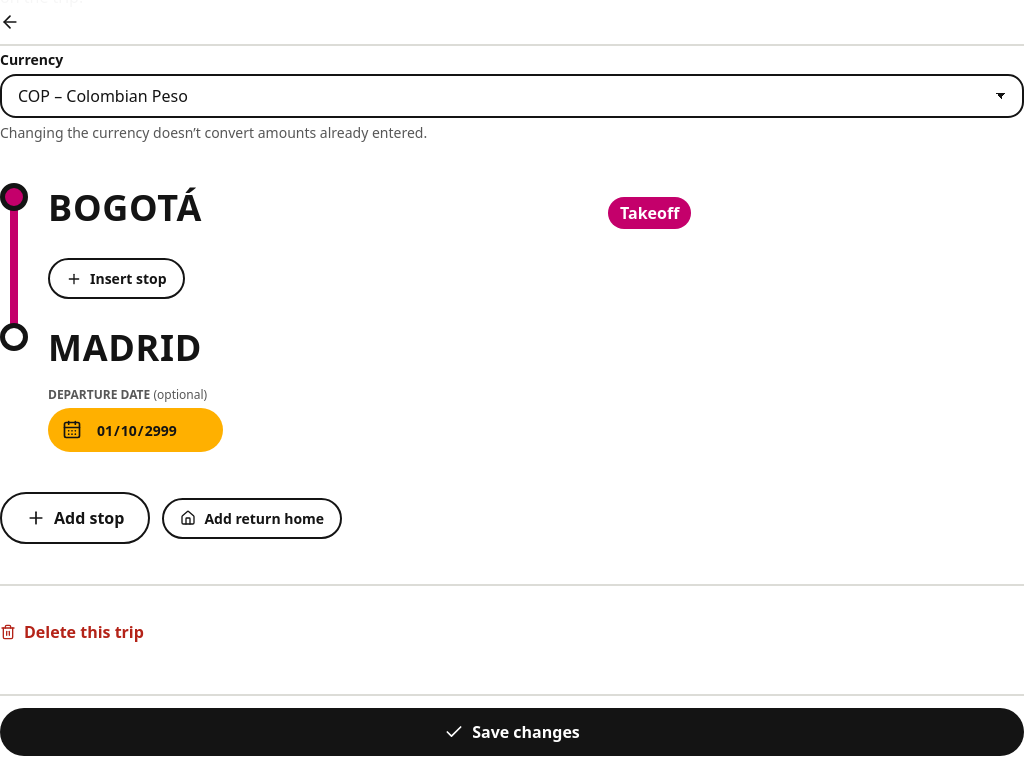
Scenario: TripForm in edit mode › names the trip in the delete dialog
(page scrolled)
Click the heading "Delete this trip": (72, 632) top-left (0, 621), bottom-right (144, 643)
(page scrolled)
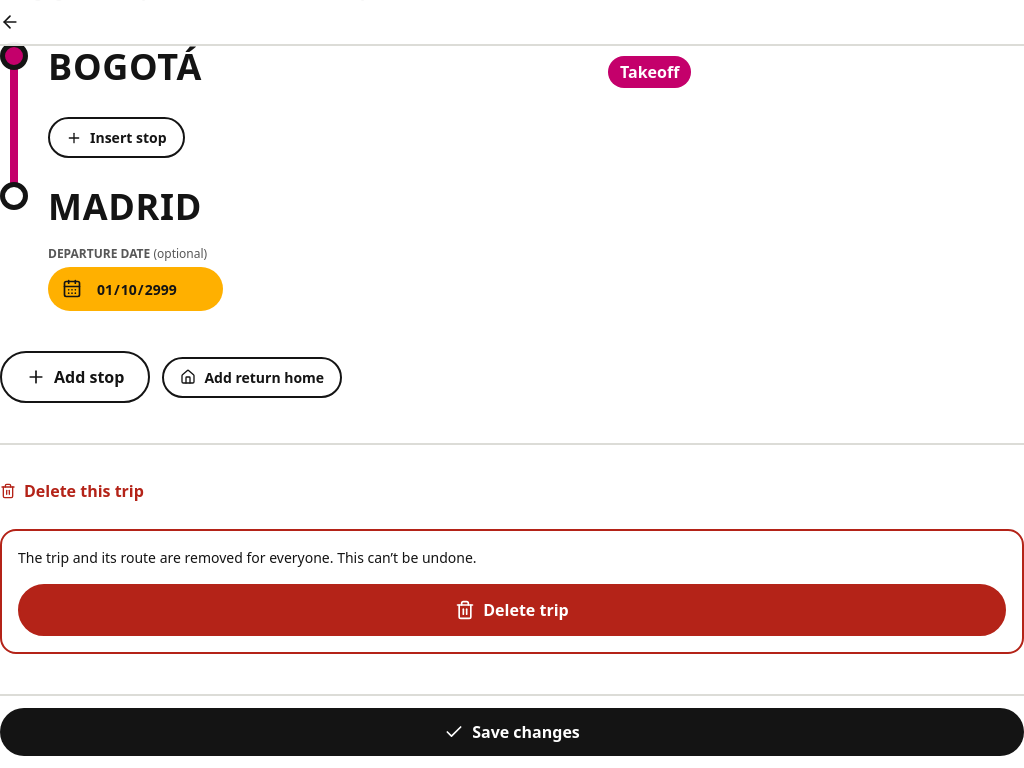
Click the button "Delete trip": (512, 610) top-left (18, 584), bottom-right (1006, 636)
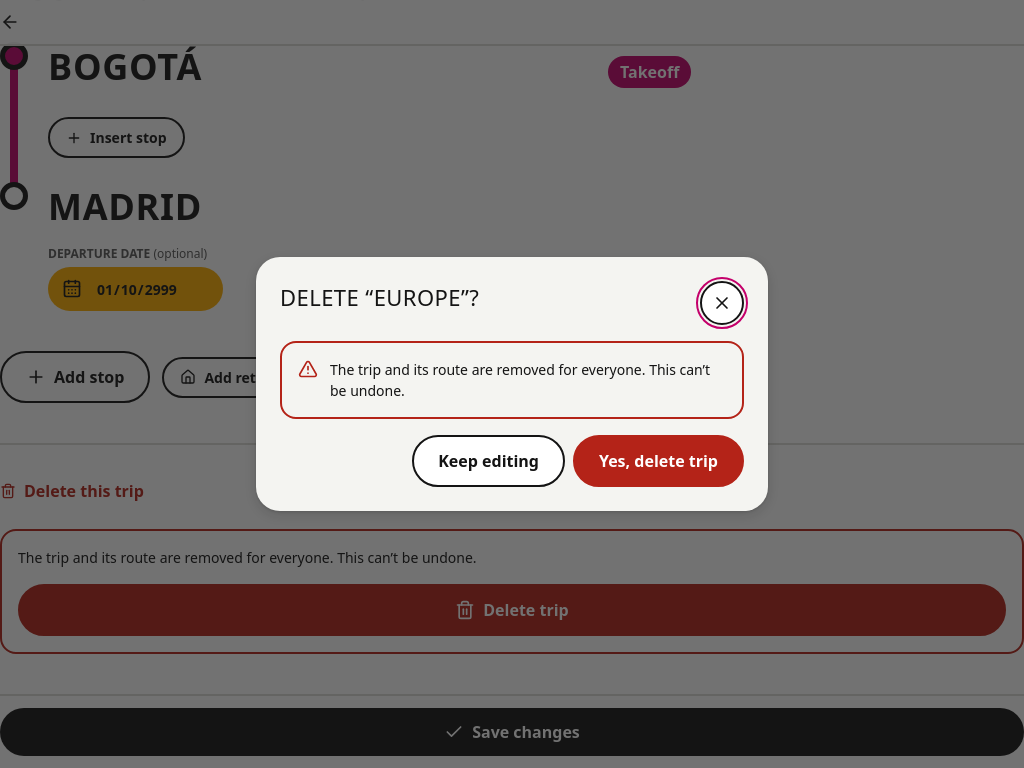
Now the dialog "Delete “Europe”?" is shown, box top-left (256, 257), bottom-right (768, 511)
